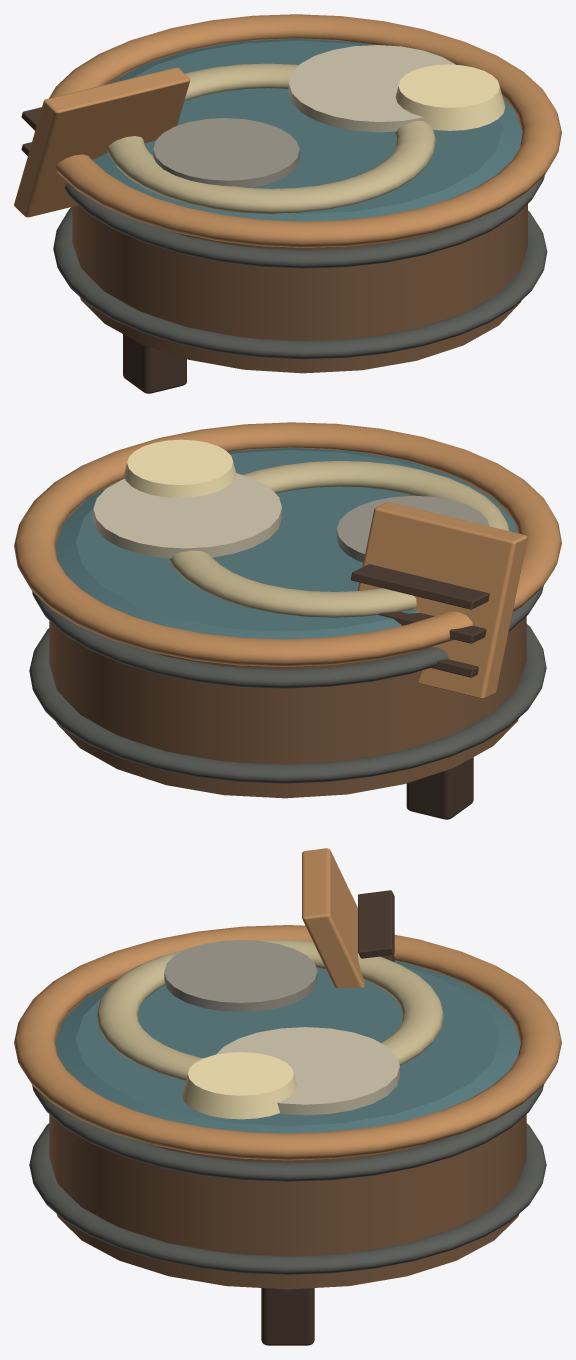
File: detail_washtub.glb
3 renders of one model, top to bottom at view 1: azimuth 30°, elevation 25°; view 2: azimuth 150°, elevation 25°; view 3: azimuth 270°, elevation 25°, orthographic. The views are drawn at different scales.
Visible parts, largest first — view 1: wood, object 4, metal, object 5, stone; view 2: wood, object 4, metal, object 5, stone; view 3: wood, object 4, metal, object 5, stone.
Part boxes in pixels (box(x1,y1,x2,y2)): wood: box(14, 14, 561, 393); object 4: box(93, 38, 522, 221); metal: box(53, 176, 547, 359); object 5: box(107, 63, 435, 213); stone: box(153, 118, 299, 187); wood: box(14, 422, 561, 819); object 4: box(55, 447, 517, 639); metal: box(29, 586, 546, 783); object 5: box(168, 460, 509, 617); stone: box(336, 495, 489, 562); wood: box(14, 848, 561, 1345); object 4: box(55, 961, 520, 1133); metal: box(29, 1085, 546, 1274); object 5: box(96, 939, 443, 1080); stone: box(164, 940, 317, 1011).
Size of the model in its own units: 1 by 0.6 by 1.
